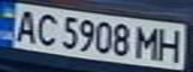0: (93, 19, 115, 55)
5: (57, 13, 81, 51)
8: (112, 20, 136, 57)
9: (75, 17, 96, 53)
A: (9, 7, 42, 44)
C: (30, 10, 60, 47)
H: (157, 25, 187, 63)
M: (133, 24, 163, 61)
